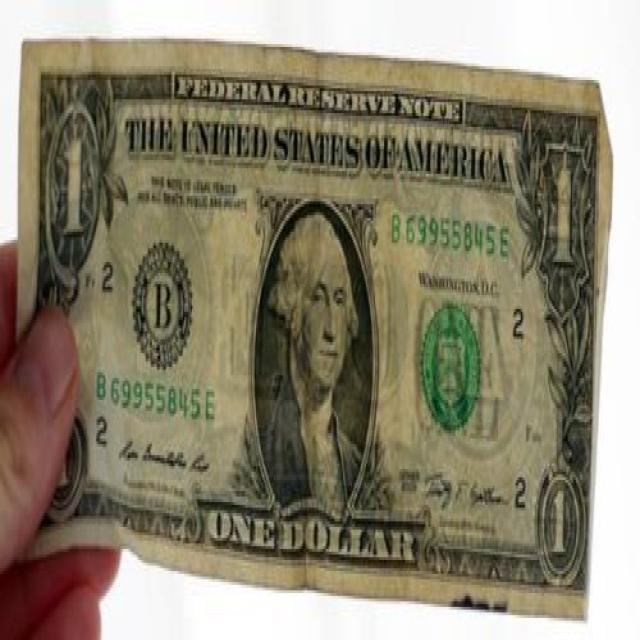1-Front: (14, 36, 616, 618)
